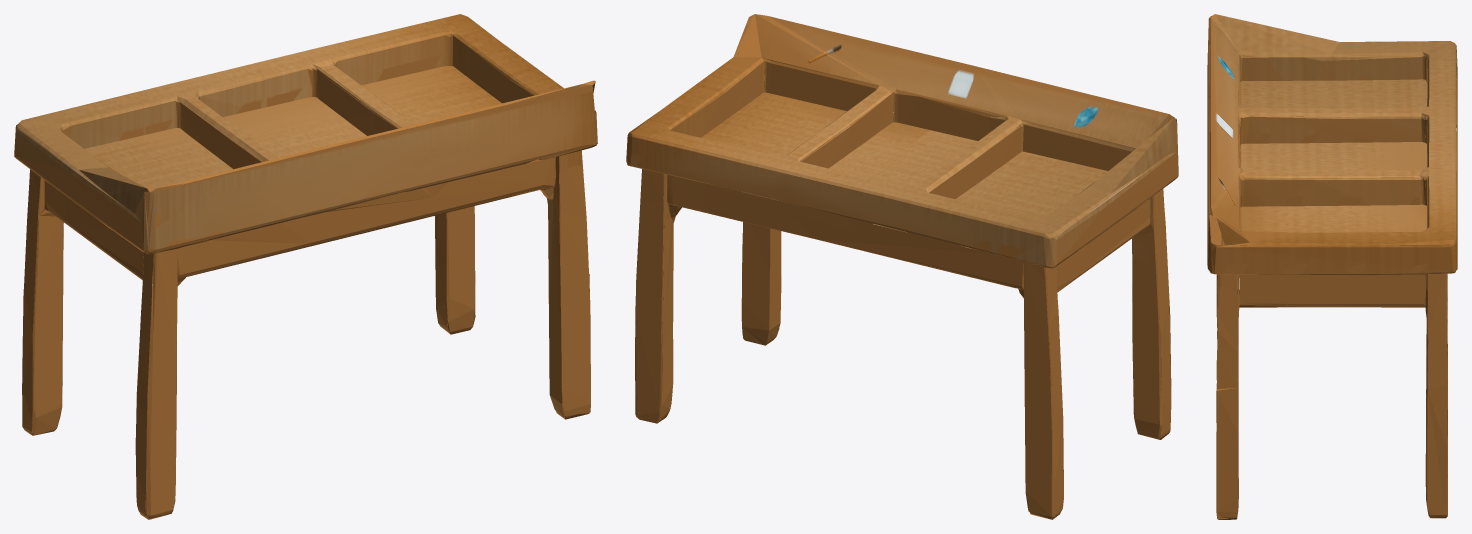
Rendered from TutorialTable.fbx.
3 renders of one model, left to right at view 1: azimuth 30°, elevation 25°; view 2: azimuth 150°, elevation 25°; view 3: azimuth 270°, elevation 25°, orthographic. The views are drawn at different scales.
Visible parts, largest first — view 1: geometry_0; view 2: geometry_0; view 3: geometry_0.
Boxes of the visible parts, bbox=[...] form: geometry_0: bbox=[14, 14, 597, 519]; geometry_0: bbox=[626, 14, 1178, 519]; geometry_0: bbox=[1207, 14, 1457, 519].
Size of the model in its own units: 71.52 by 50.66 by 37.21.
